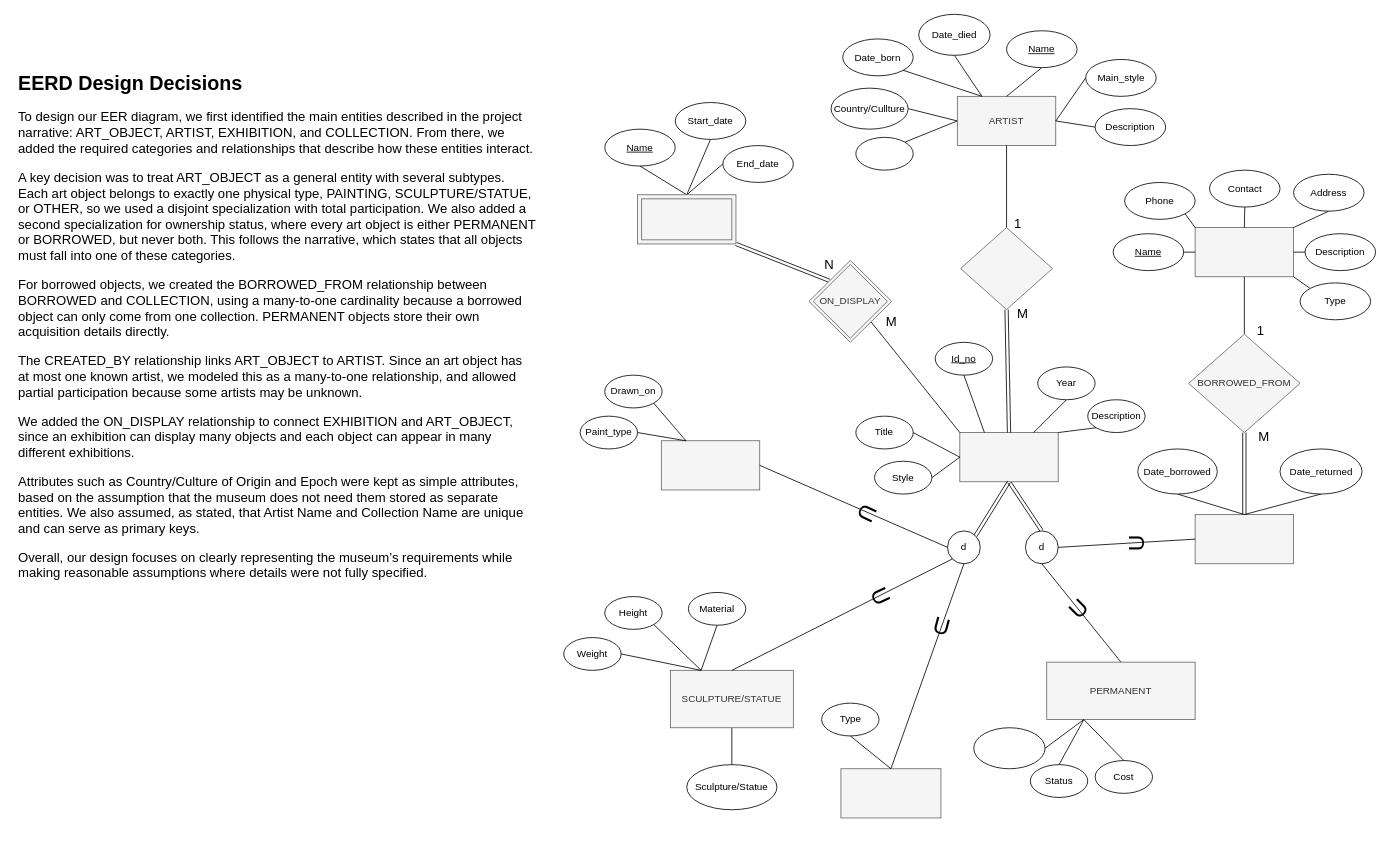
The diagram is 1390 pixels wide and 849 high, and some of its shapes have lost their labels. The shapes that lost their labels are listed below. From the top down, each one's centre as x and y in pixels, then its label:
At (x=884, y=153): "Epoch".
At (x=686, y=219): "EXHIBITION".
At (x=1006, y=268): "CREATED_BY".
At (x=1244, y=252): "COLLECTION".
At (x=710, y=465): "PAINTING".
At (x=1008, y=457): "ART_OBJECT".
At (x=1244, y=539): "BORROWED".
At (x=1009, y=748): "Date_aquired".
At (x=890, y=793): "OTHER".
